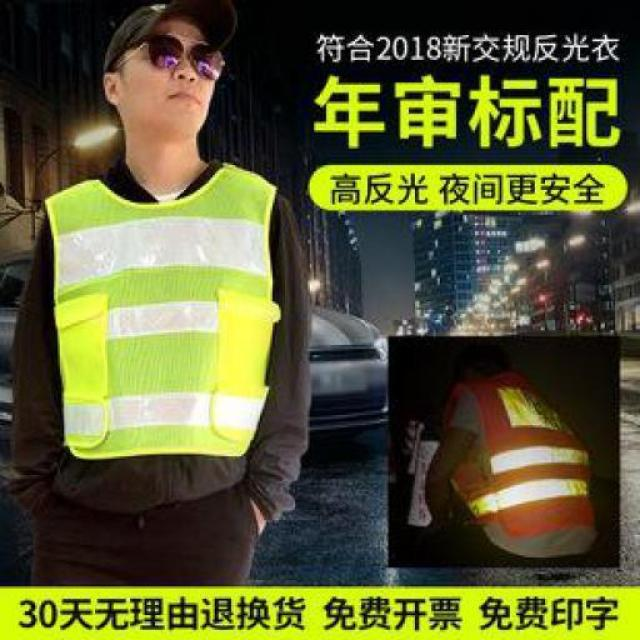vest: (50, 175, 273, 456), (468, 382, 604, 543)
